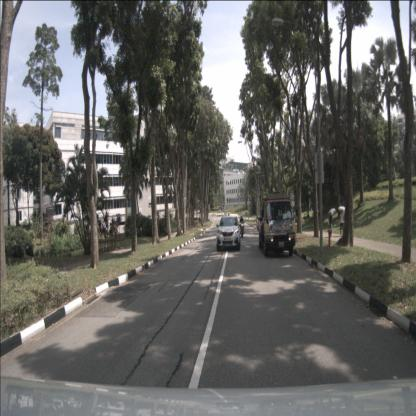human-pedestrian-adult: (338, 206, 346, 236), (328, 208, 335, 237)
vehicle-car: (216, 216, 240, 251)
vehicle-motorcycle: (239, 214, 245, 238)
vehicle-truck: (256, 192, 296, 257)
